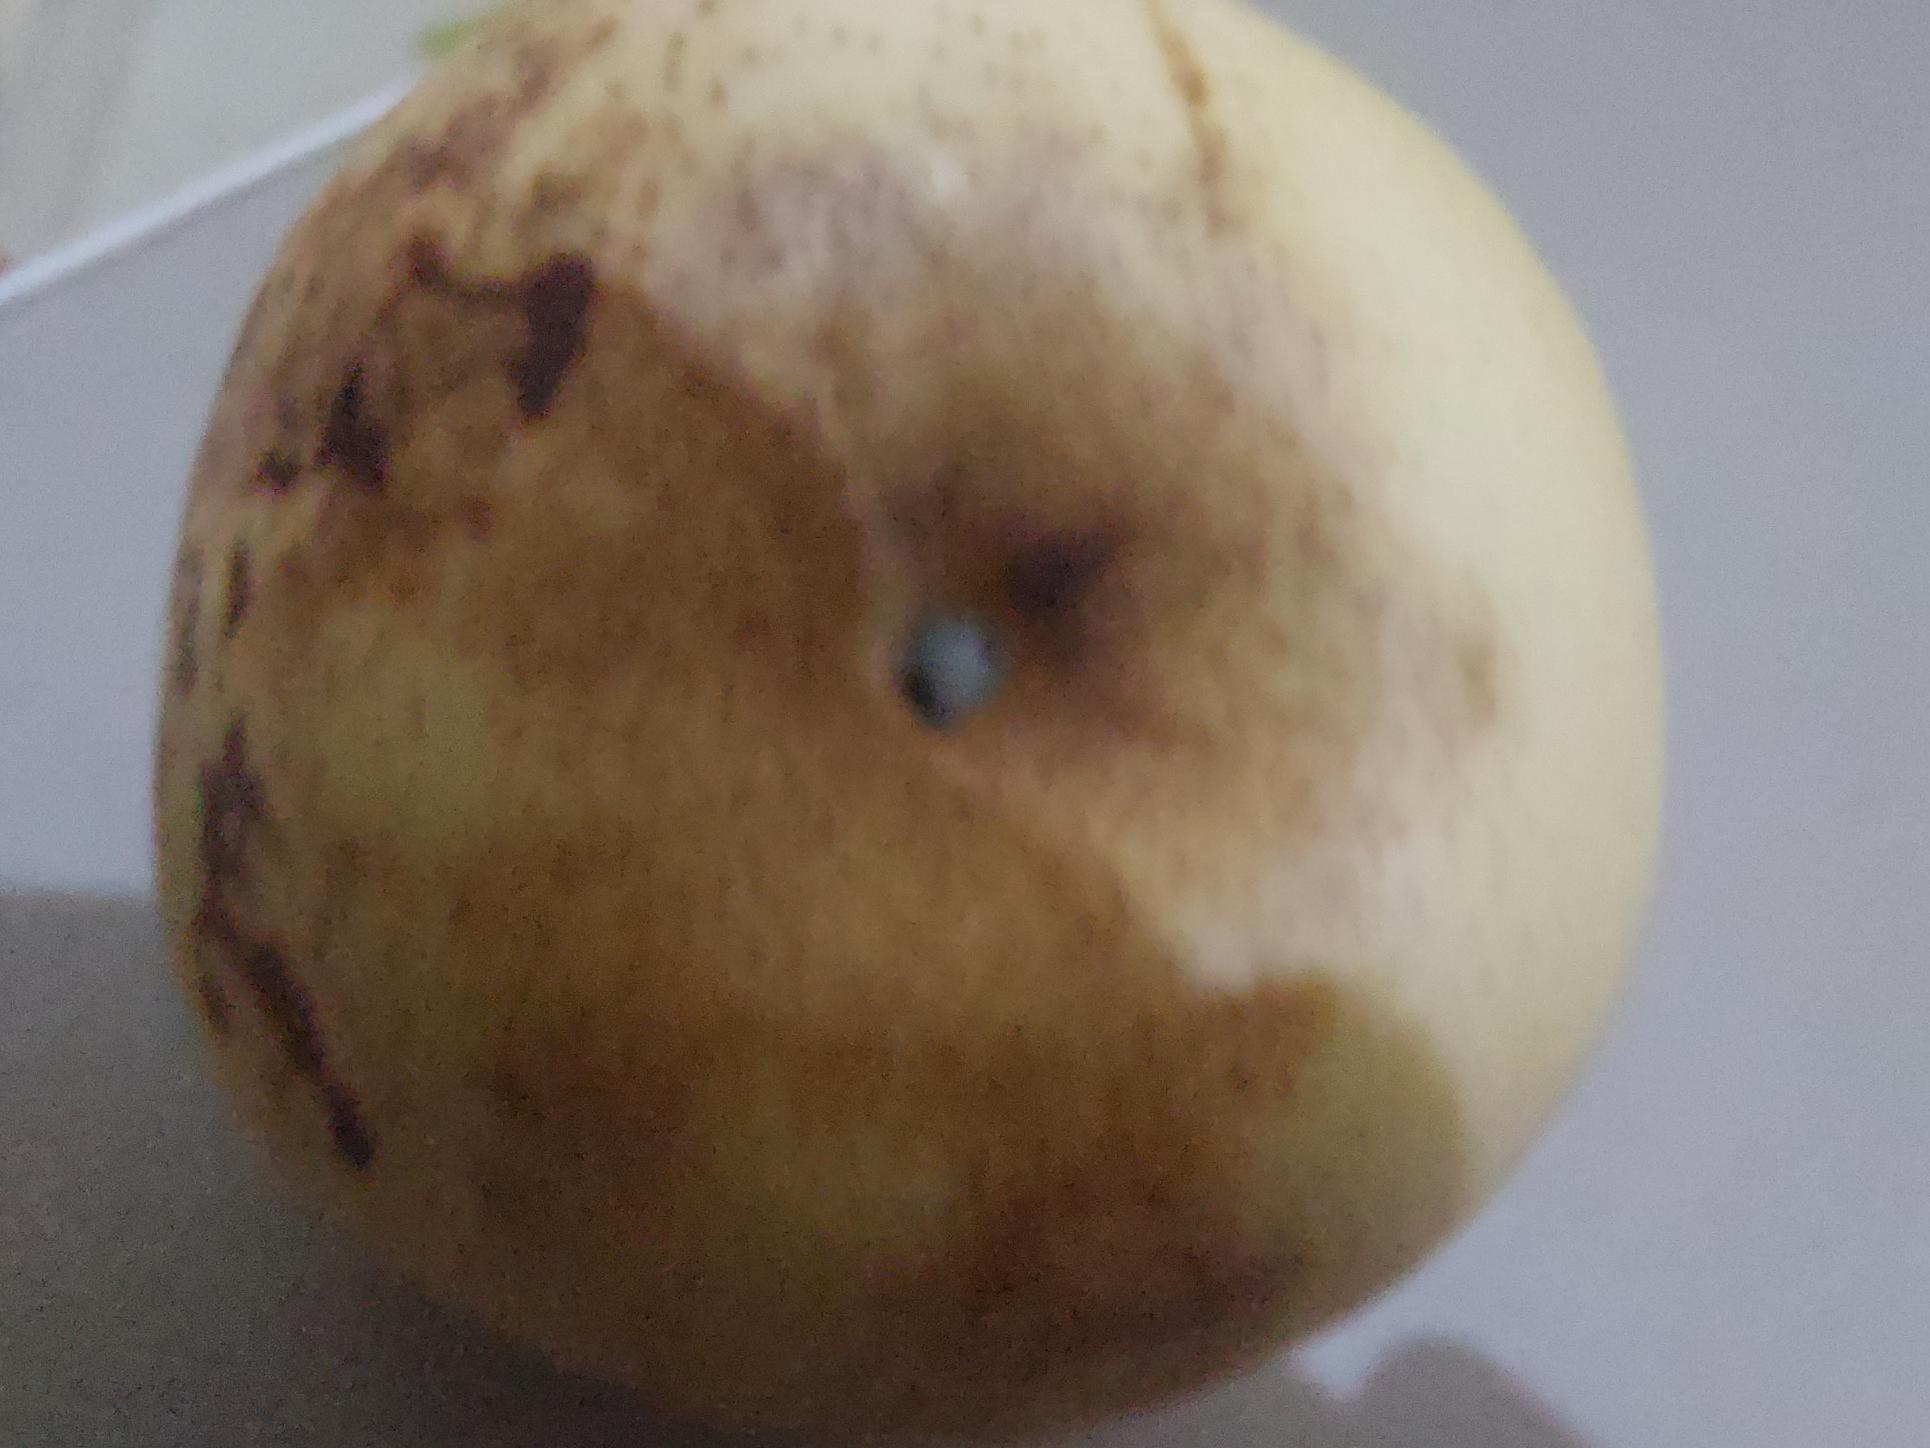Bad Pear: (149, 2, 1653, 1433)
